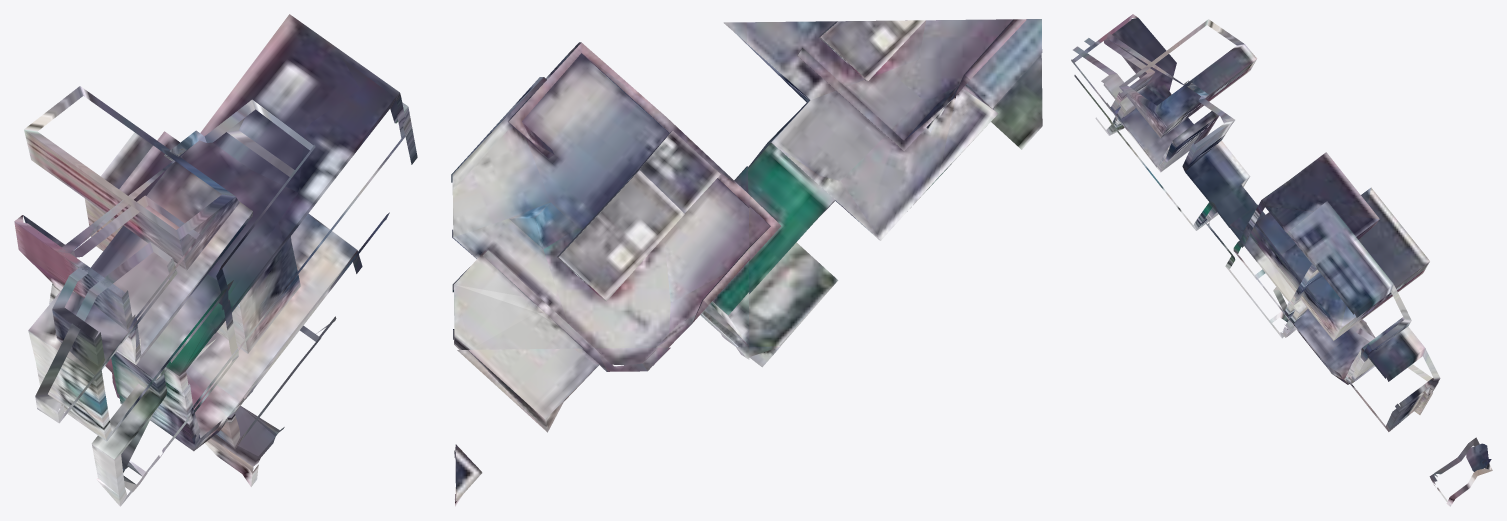
The picture shows the model from 3 angles, left to right: view 1: azimuth 30°, elevation 25°; view 2: azimuth 150°, elevation 25°; view 3: azimuth 270°, elevation 25°; orthographic projection. The views are drawn at different scales.
Size of the model in its own units: 29.62 by 29.37 by 30.92.
2 materials, 2 textured.
